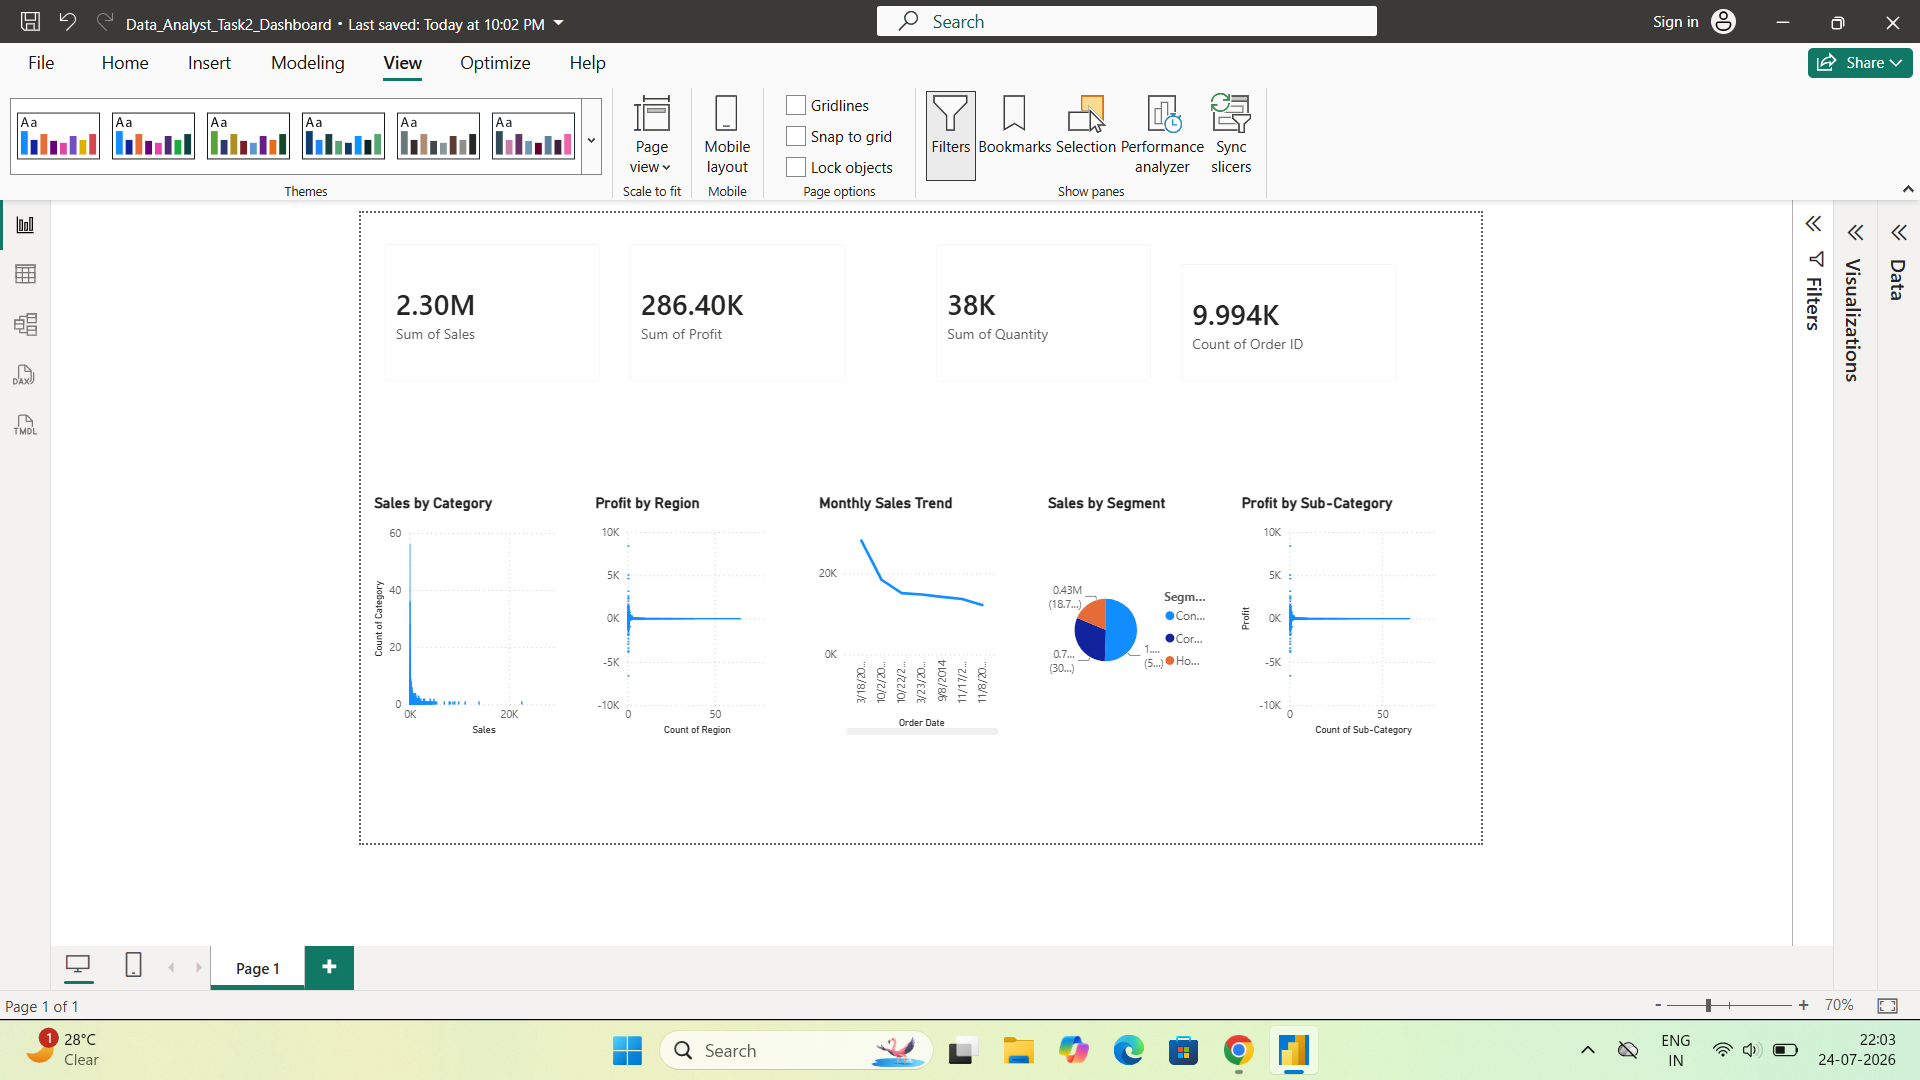

The dashboard page shown, as its layout file describes it:
{"tool":"powerbi","page":{"name":"Page 1","canvas":[1280,720],"ordinal":0},"visuals":[{"type":"cardVisual","fields":{"Data":["Sum(Sample - Superstore.Sales)"]},"box":[10,18.3,280,191.7],"z":0},{"type":"cardVisual","fields":{"Data":["Sum(Sample - Superstore.Profit)"]},"box":[290,18.3,280,191.7],"z":1},{"type":"cardVisual","fields":{"Data":["Sum(Sample - Superstore.Quantity)"]},"box":[640,18.3,280,191.7],"z":2},{"type":"cardVisual","fields":{"Data":["CountNonNull(Sample - Superstore.Order ID)"]},"box":[920,41.7,280,168.3],"z":3},{"type":"clusteredColumnChart","title":"Sales by Category","fields":{"Y":["CountNonNull(Sample - Superstore.Category)"],"Category":["Sample - Superstore.Sales"]},"box":[10,321.7,231.7,280],"z":4},{"type":"clusteredBarChart","title":"Profit by Region","fields":{"Y":["CountNonNull(Sample - Superstore.Region)"],"Category":["Sample - Superstore.Profit"]},"box":[263.3,321.7,213.3,280],"z":5},{"type":"lineChart","title":"Monthly Sales Trend","fields":{"Category":["Sample - Superstore.Order Date"],"Y":["Sum(Sample - Superstore.Sales)"]},"box":[518.3,321.7,215,280],"z":6},{"type":"pieChart","title":"Sales by Segment","fields":{"Category":["Sample - Superstore.Segment"],"Y":["Sum(Sample - Superstore.Sales)"]},"box":[780,321.7,200,280],"z":7},{"type":"clusteredBarChart","title":"Profit by Sub-Category","fields":{"Category":["Sample - Superstore.Profit"],"Y":["CountNonNull(Sample - Superstore.Sub-Category)"]},"box":[1001.7,321.7,241.7,280],"z":8}]}

Visuals, with their boxes on the page's 1280x720 design canvas (x1, y1, x2, y2). These are canvas units, not pixel positions in the 1920x1080 screenshot, which may show the page scaled, cropped or inside an application window:
cardVisual - Sum(Sample - Superstore.Sales): {"left": 10, "top": 18, "right": 290, "bottom": 210}
cardVisual - Sum(Sample - Superstore.Profit): {"left": 290, "top": 18, "right": 570, "bottom": 210}
cardVisual - Sum(Sample - Superstore.Quantity): {"left": 640, "top": 18, "right": 920, "bottom": 210}
cardVisual - CountNonNull(Sample - Superstore.Order ID): {"left": 920, "top": 42, "right": 1200, "bottom": 210}
"Sales by Category" clusteredColumnChart: {"left": 10, "top": 322, "right": 242, "bottom": 602}
"Profit by Region" clusteredBarChart: {"left": 263, "top": 322, "right": 477, "bottom": 602}
"Monthly Sales Trend" lineChart: {"left": 518, "top": 322, "right": 733, "bottom": 602}
"Sales by Segment" pieChart: {"left": 780, "top": 322, "right": 980, "bottom": 602}
"Profit by Sub-Category" clusteredBarChart: {"left": 1002, "top": 322, "right": 1243, "bottom": 602}
